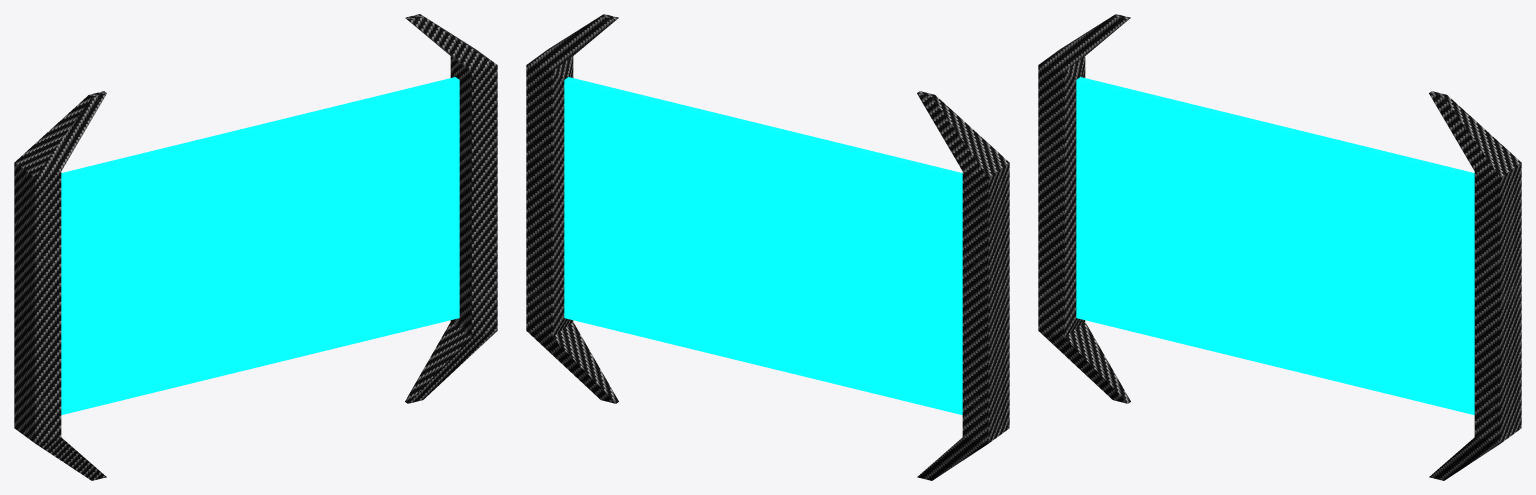
The model's file is goal.glb.
The picture shows the model from 3 angles, left to right: view 1: azimuth 30°, elevation 25°; view 2: azimuth 150°, elevation 25°; view 3: azimuth 330°, elevation 25°; orthographic projection.
Parts seen in each view (by area): view 1: Cube; view 2: Cube; view 3: Cube.
Boxes of the visible parts, x1,y1,x2,y2 form: Cube: (14, 14, 497, 480); Cube: (526, 14, 1009, 480); Cube: (1038, 14, 1521, 480).
Bounding box in the file's own units: 7.28 × 5.78 × 0.5693.
Materials: 2 (1 with a texture image).
